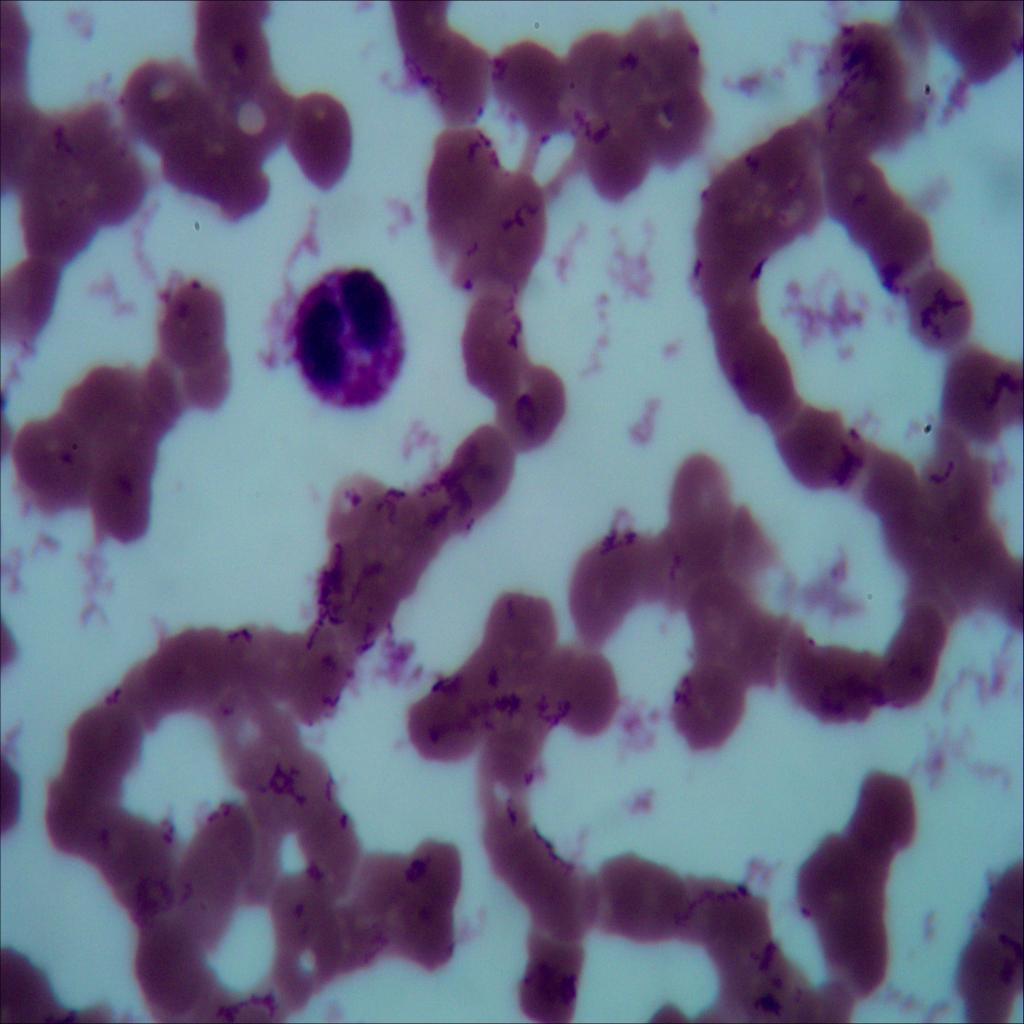Eosinofil: (284, 263, 409, 407)
